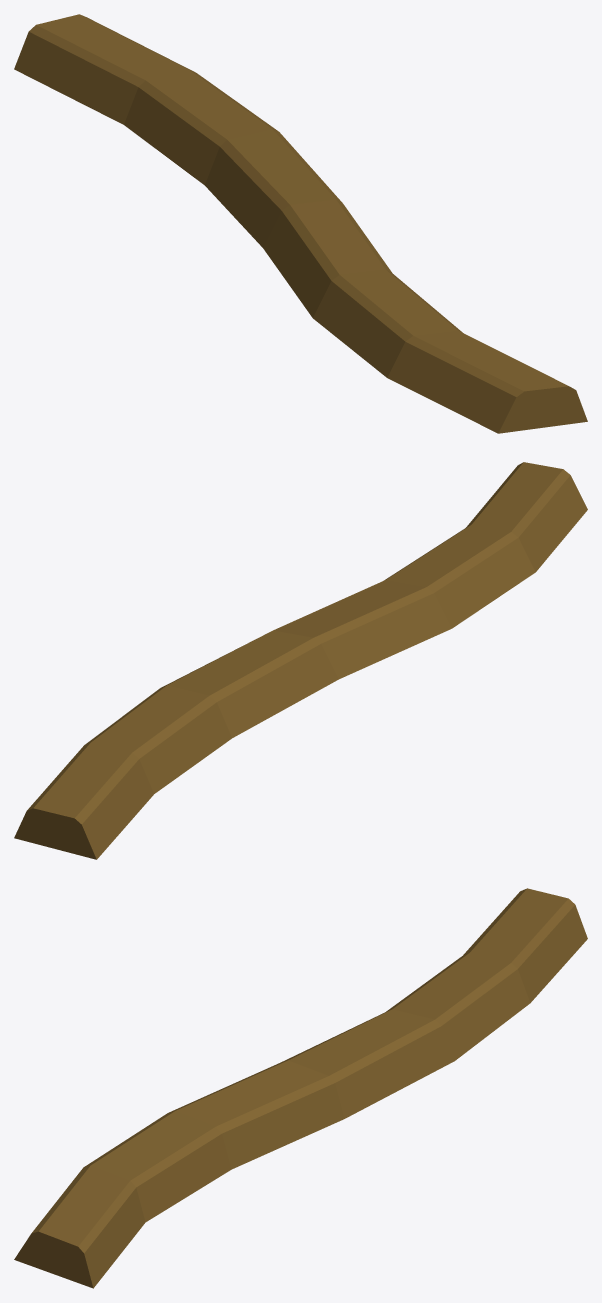
The model's file is SM_Paddies.fbx.
The picture shows the model from 3 angles, top to bottom: view 1: azimuth 30°, elevation 25°; view 2: azimuth 150°, elevation 25°; view 3: azimuth 330°, elevation 25°; orthographic projection. The views are drawn at different scales.
Visible parts, largest first — view 1: Paddie.002; view 2: Paddie.002; view 3: Paddie.002.
Part boxes in pixels (left/top/right/bottom): Paddie.002: left=14, top=14, right=587, bottom=433; Paddie.002: left=14, top=462, right=587, bottom=859; Paddie.002: left=14, top=888, right=587, bottom=1288.
Bounding box in the file's own units: 181 × 49.3 × 1004.
